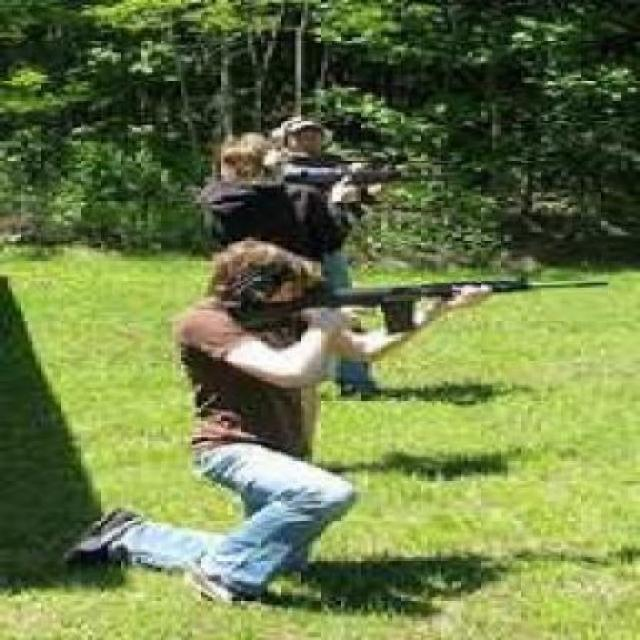Rifle: (245, 271, 605, 334)
